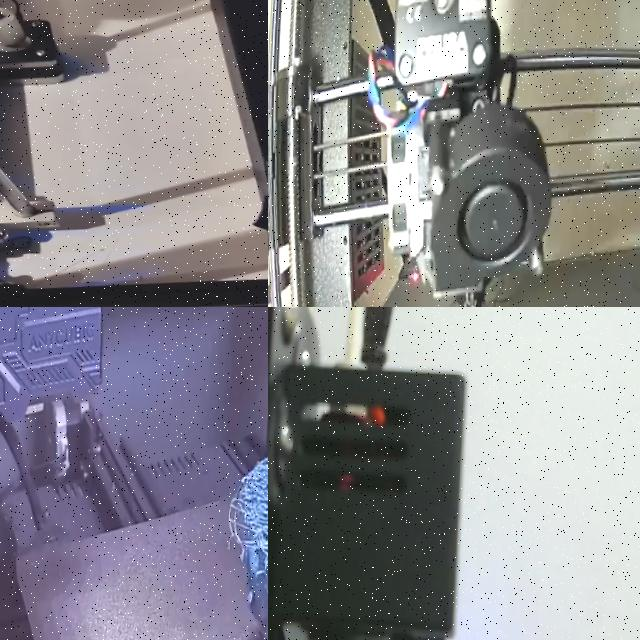spaghetti: (227, 455, 268, 575)
